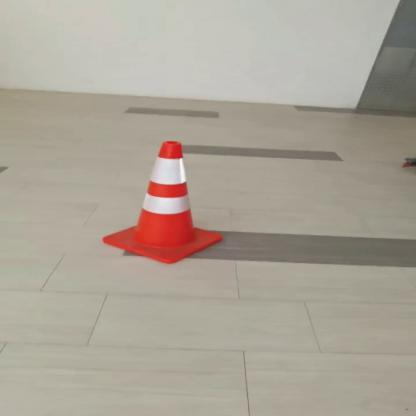cone: (94, 135, 234, 267)
